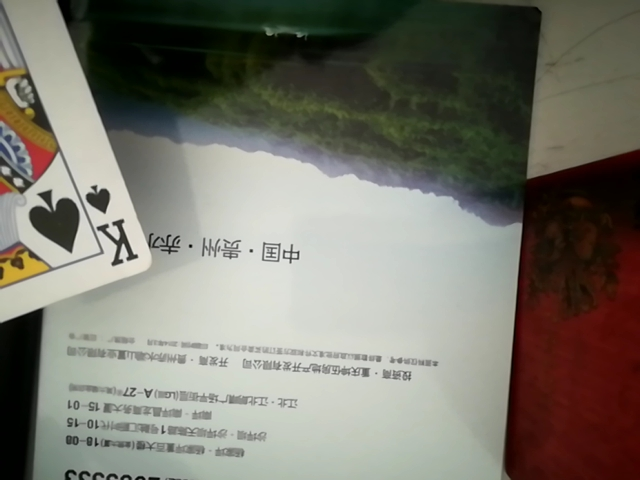ht k: (0, 0, 165, 387)
